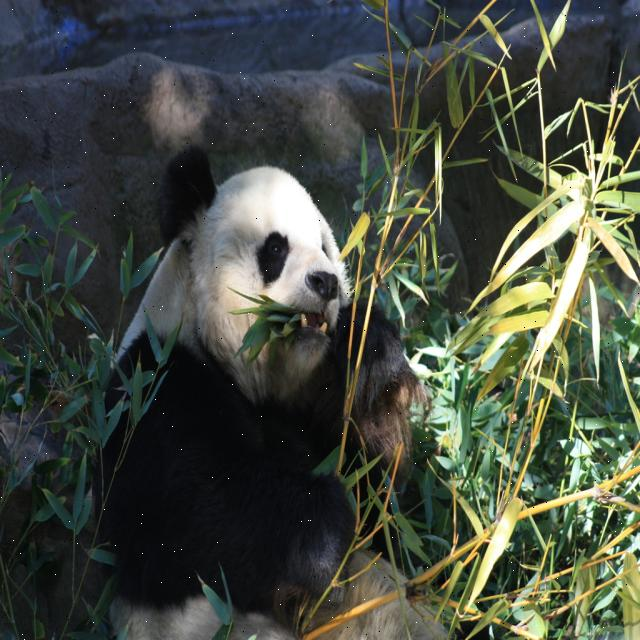panda: (110, 146, 448, 639)
